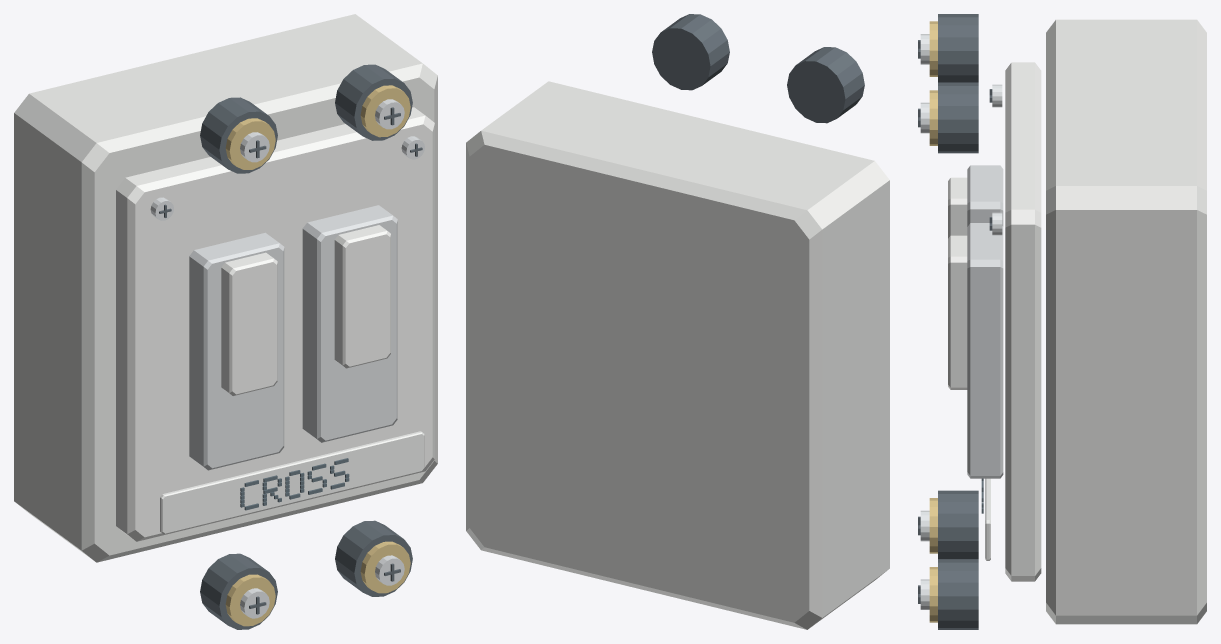
The model's file is intermediateSwitch.glb.
3 renders of one model, left to right at view 1: azimuth 30°, elevation 25°; view 2: azimuth 150°, elevation 25°; view 3: azimuth 270°, elevation 25°, orthographic. The views are drawn at different scales.
Parts seen in each view (by area): view 1: intermediateSwitch-preview; view 2: intermediateSwitch-preview; view 3: intermediateSwitch-preview.
Boxes of the visible parts, bbox=[...] form: intermediateSwitch-preview: bbox=[14, 14, 437, 629]; intermediateSwitch-preview: bbox=[466, 14, 889, 629]; intermediateSwitch-preview: bbox=[918, 14, 1206, 629].
Bounding box in the file's own units: 1.91 × 2.65 × 1.28.
